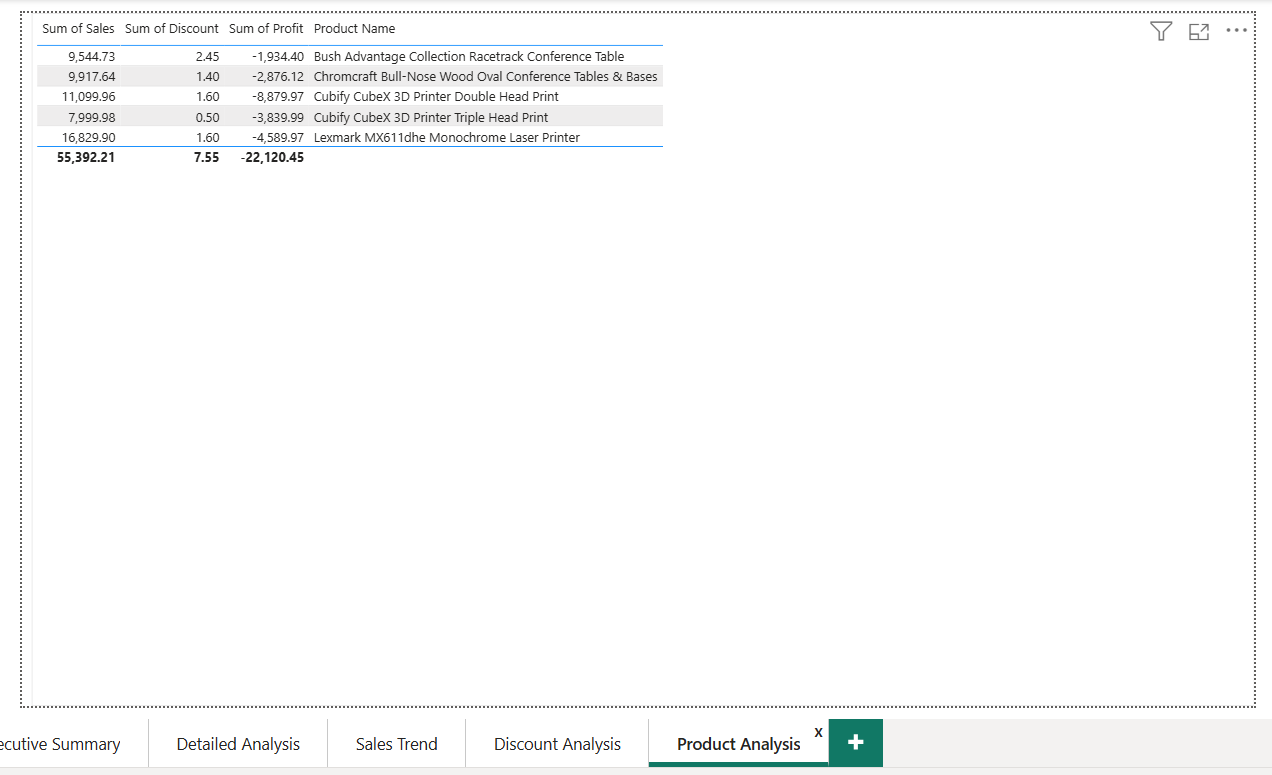

The dashboard page shown, as its layout file describes it:
{"tool":"powerbi","page":{"name":"Product Analysis","canvas":[1280,720],"ordinal":4},"visuals":[{"type":"tableEx","fields":{"Values":["Sum(Sample - Superstore.Sales)","Sum(Sample - Superstore.Discount)","Sum(Sample - Superstore.Profit)","Sample - Superstore.Product Name"]},"box":[9.7,0,1270.1,720.4],"z":0}]}

Visuals, with their boxes on the page's 1280x720 design canvas (x1, y1, x2, y2). These are canvas units, not pixel positions in the 1272x775 screenshot, which may show the page scaled, cropped or inside an application window:
tableEx - Sum(Sample - Superstore.Sales) x Sum(Sample - Superstore.Discount): crop(10, 0, 1280, 720)
